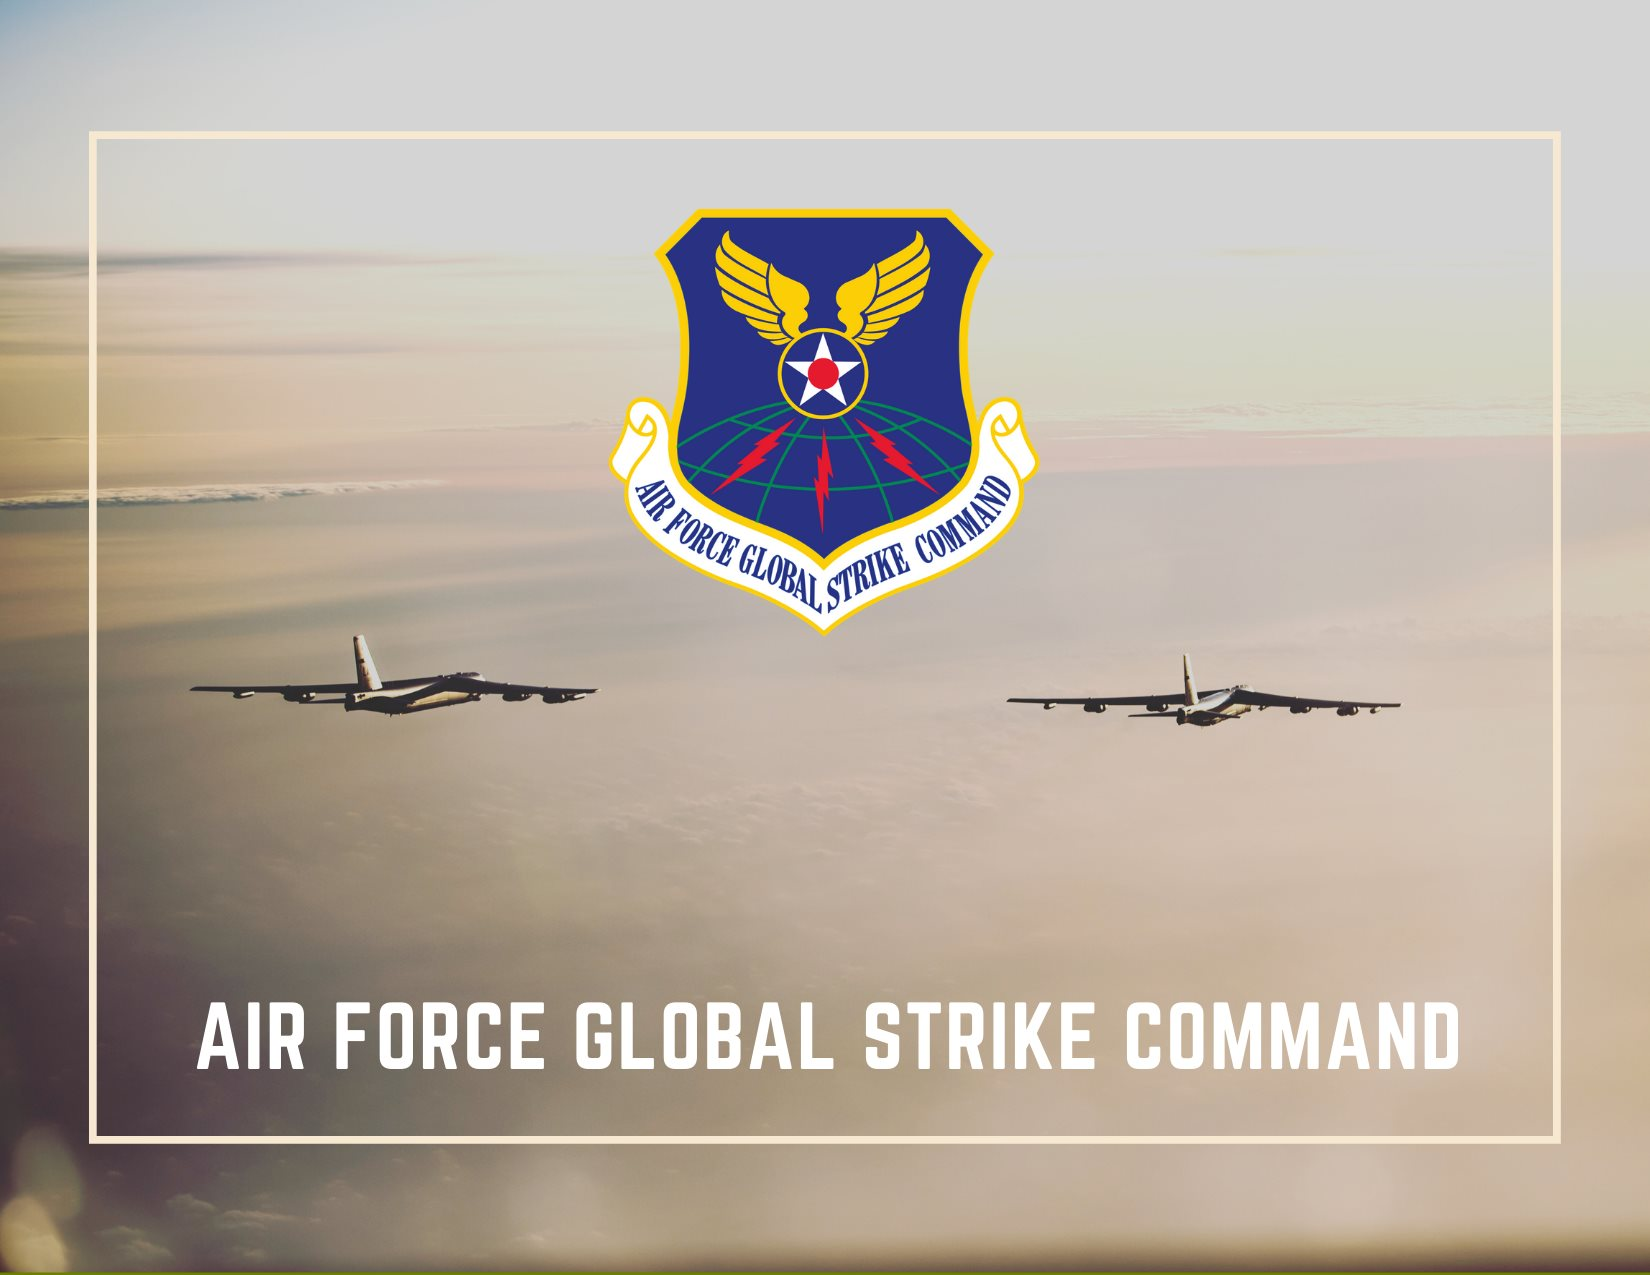B52: (187, 633, 601, 718), (1004, 651, 1404, 730)
